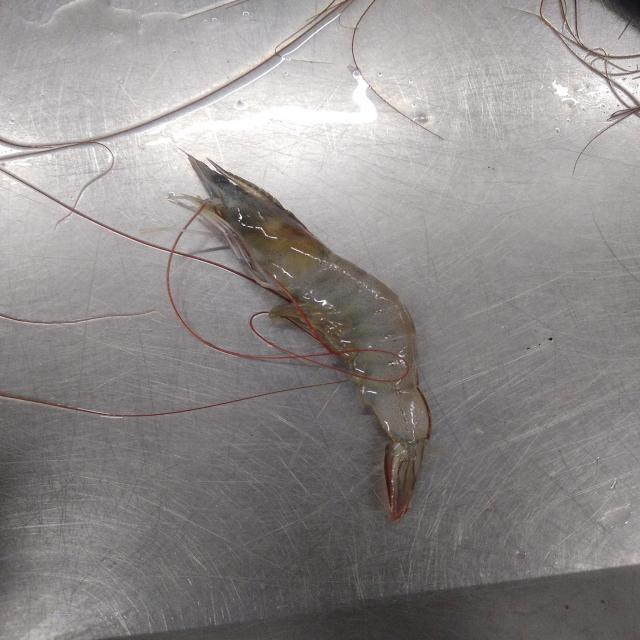shrimp: (187, 158, 433, 522)
